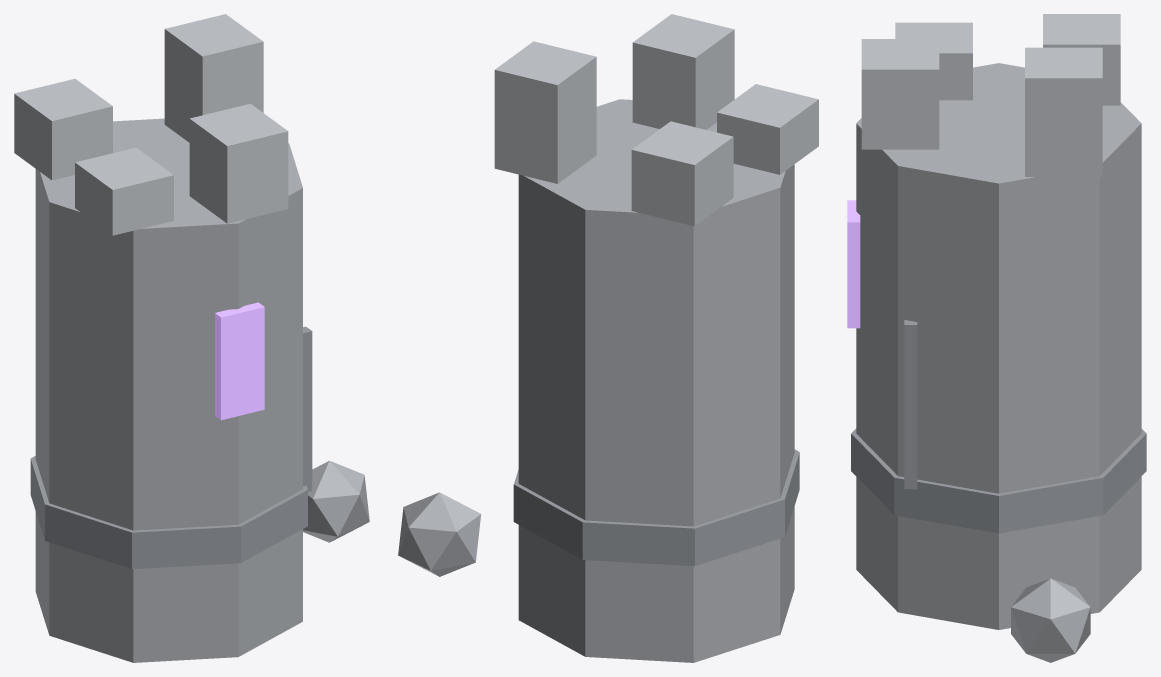
Rendered from ruin_tower.glb.
3 views of the same model, side by side, from view 1: azimuth 30°, elevation 25°; view 2: azimuth 150°, elevation 25°; view 3: azimuth 270°, elevation 25° (orthographic). The views are drawn at different scales.
Parts seen in each view (by area): view 1: shaft.001, dark_band, broken_top.002, broken_top, broken_top.001, broken_top.003, window, rubble.003, crack; view 2: shaft.001, broken_top, dark_band, broken_top.002, broken_top.001, broken_top.003, rubble.003; view 3: shaft.001, dark_band, broken_top, broken_top.002, rubble.003, broken_top.001, broken_top.003, crack, window.
Part boxes in pixels (left/top/right/bottom): shaft.001: left=35, top=118, right=302, bottom=662; dark_band: left=30, top=456, right=307, bottom=569; broken_top.002: left=189, top=103, right=288, bottom=223; broken_top: left=164, top=14, right=263, bottom=142; broken_top.001: left=14, top=79, right=112, bottom=180; broken_top.003: left=75, top=147, right=173, bottom=235; window: left=215, top=302, right=264, bottom=420; rubble.003: left=303, top=460, right=369, bottom=542; crack: left=303, top=326, right=312, bottom=491; shaft.001: left=518, top=99, right=794, bottom=662; broken_top: left=494, top=41, right=596, bottom=183; dark_band: left=513, top=449, right=799, bottom=566; broken_top.002: left=632, top=14, right=734, bottom=129; broken_top.001: left=631, top=121, right=733, bottom=226; broken_top.003: left=717, top=84, right=818, bottom=174; rubble.003: left=398, top=492, right=481, bottom=576; shaft.001: left=856, top=63, right=1141, bottom=629; dark_band: left=851, top=428, right=1146, bottom=533; broken_top: left=1025, top=47, right=1102, bottom=176; broken_top.002: left=861, top=39, right=939, bottom=149; rubble.003: left=1011, top=578, right=1090, bottom=662; broken_top.001: left=1043, top=14, right=1120, bottom=105; broken_top.003: left=895, top=22, right=972, bottom=100; crack: left=904, top=320, right=917, bottom=489; window: left=847, top=200, right=860, bottom=328.
Size of the model in its own units: 1.58 by 2.32 by 1.15.
